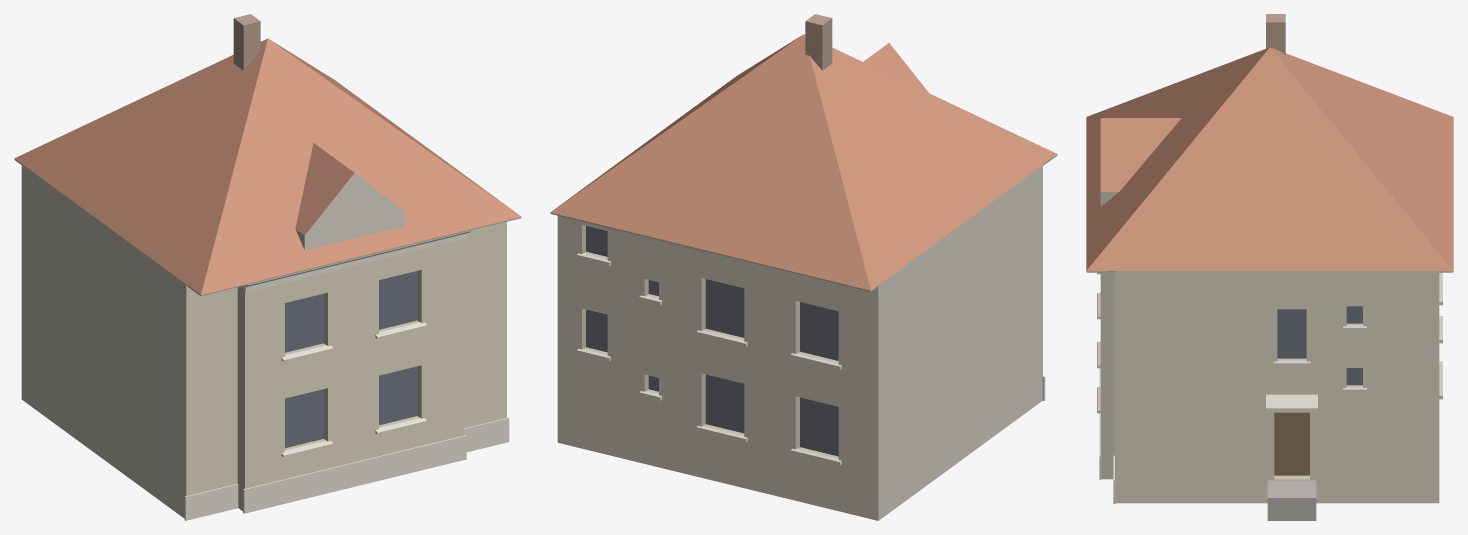
The picture shows the model from 3 angles, left to right: view 1: azimuth 30°, elevation 25°; view 2: azimuth 150°, elevation 25°; view 3: azimuth 270°, elevation 25°; orthographic projection.
Parts seen in each view (by area): view 1: CP_1692_Masonry, CP_1692_Roof, CP_1692_Dormer_PED, CP_1692_Cornice_plinth_R_0, CP_1692_Cornice_risalit_main_0, CP_1692_Cornice_plinth_L_0, CP_1692_Chimney_0, CP_1692_Cornice_plinth_Rt_0, CP_1692_Roof_EaveClosure_0; view 2: CP_1692_Masonry, CP_1692_Roof, CP_1692_Chimney_0, CP_1692_Dormer_PED, CP_1692_Roof_EaveClosure_2; view 3: CP_1692_Masonry, CP_1692_Roof, CP_1692_Dormer_PED, CP_1692_Entrance_Steps, CP_1692_Entrance_Canopy, CP_1692_Chimney_0.
Part boxes in pixels (x1=…): CP_1692_Masonry: x1=21, y1=164, x2=506, y2=518; CP_1692_Roof: x1=14, y1=38, x2=521, y2=294; CP_1692_Dormer_PED: x1=295, y1=143, x2=404, y2=250; CP_1692_Cornice_plinth_R_0: x1=243, y1=435, x2=466, y2=513; CP_1692_Cornice_risalit_main_0: x1=243, y1=230, x2=470, y2=292; CP_1692_Cornice_plinth_L_0: x1=184, y1=483, x2=238, y2=520; CP_1692_Chimney_0: x1=233, y1=14, x2=260, y2=70; CP_1692_Cornice_plinth_Rt_0: x1=464, y1=417, x2=509, y2=452; CP_1692_Roof_EaveClosure_0: x1=191, y1=221, x2=503, y2=295; CP_1692_Masonry: x1=557, y1=165, x2=1042, y2=520; CP_1692_Roof: x1=550, y1=34, x2=1057, y2=290; CP_1692_Chimney_0: x1=805, y1=14, x2=832, y2=70; CP_1692_Dormer_PED: x1=863, y1=43, x2=928, y2=92; CP_1692_Roof_EaveClosure_2: x1=568, y1=217, x2=878, y2=291; CP_1692_Masonry: x1=1100, y1=271, x2=1439, y2=503; CP_1692_Roof: x1=1086, y1=47, x2=1453, y2=270; CP_1692_Dormer_PED: x1=1100, y1=118, x2=1181, y2=206; CP_1692_Entrance_Steps: x1=1267, y1=480, x2=1316, y2=520; CP_1692_Entrance_Canopy: x1=1266, y1=394, x2=1317, y2=412; CP_1692_Chimney_0: x1=1266, y1=14, x2=1285, y2=54.
Bounding box in the file's own units: 12.6 × 13.6 × 11.34.
